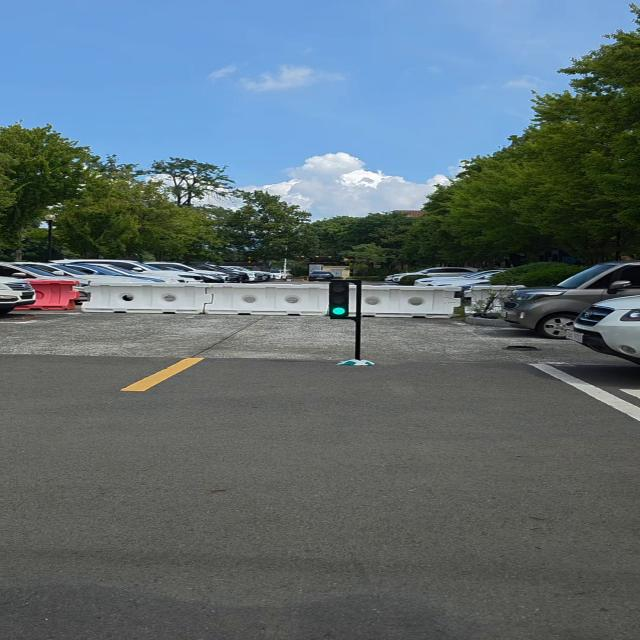green: (327, 283, 360, 319)
